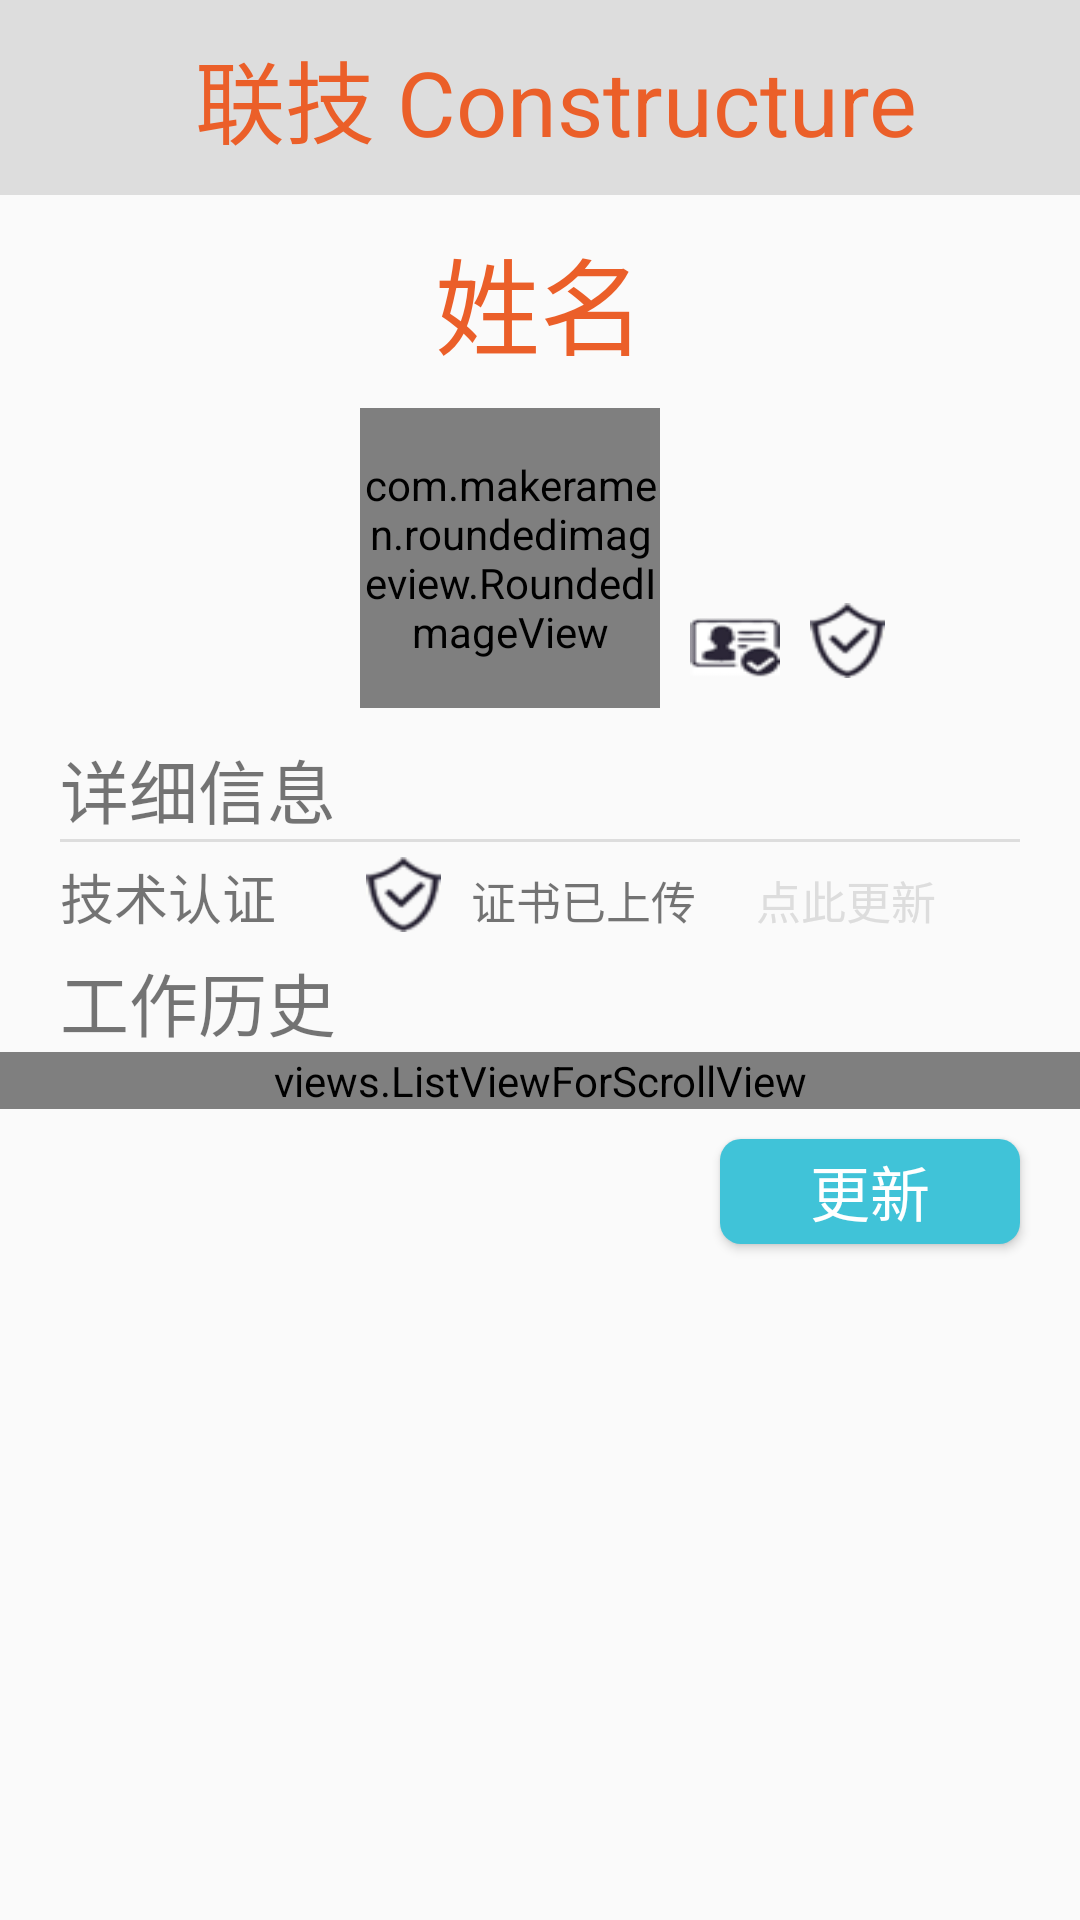

Screen size 1080px x 1920px. Icon name, then its box in pixels as box(x1, y1, x2, y2):
certified: box(810, 603, 885, 678), box(366, 857, 441, 932)
idcard: box(690, 618, 780, 677)
